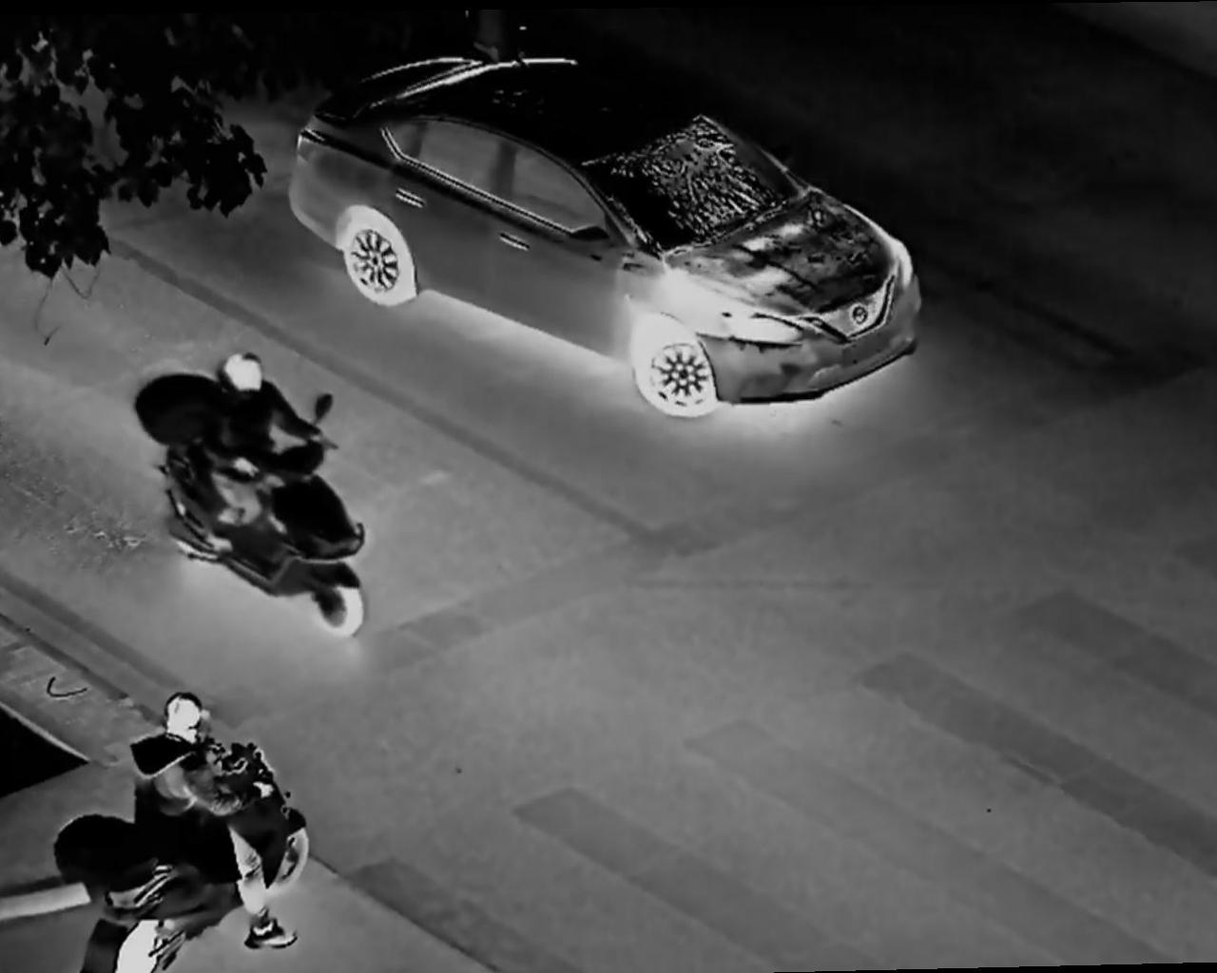person: (120, 694, 301, 958), (211, 343, 294, 563)
